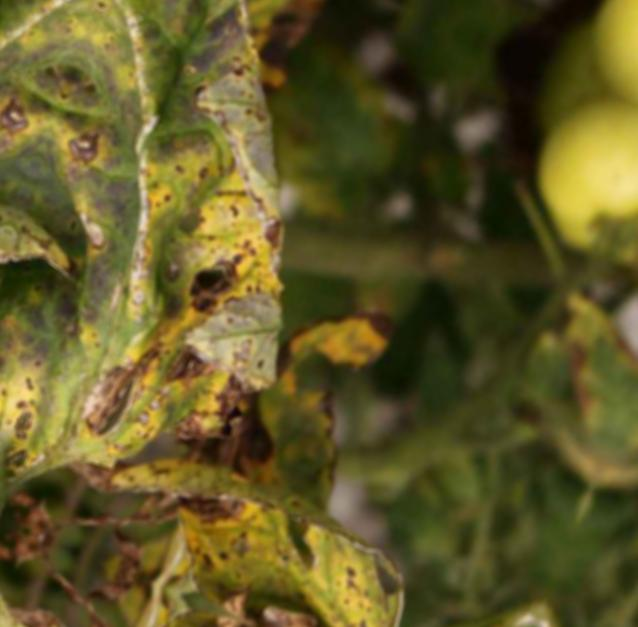Tomato Septoria leaf spot: (0, 0, 428, 599), (110, 439, 547, 627)
